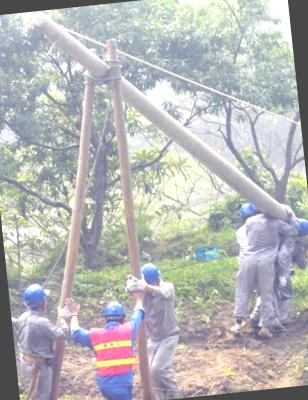helmet: (20, 282, 54, 312), (98, 298, 130, 326), (235, 202, 260, 224)
no_vest: (18, 310, 64, 368)
person: (12, 279, 76, 400), (82, 295, 153, 400)
